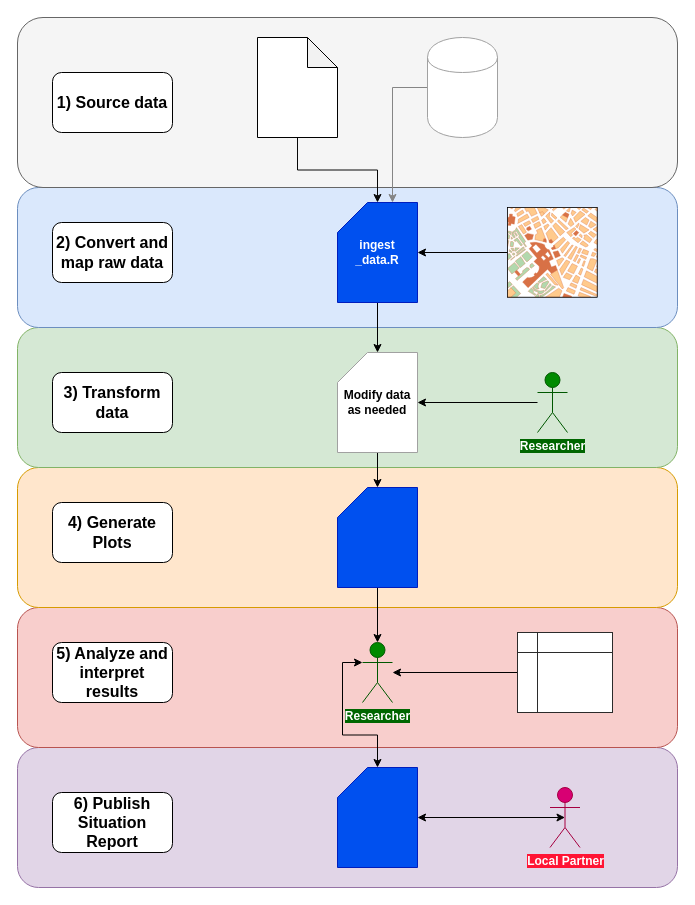
The diagram is 695 pixels wide and 905 high, and some of its shapes have lost their labels. Each missing label, with the centre of its shape:
COVID-19 MDN Data Store: the point at 462,87
modified _report _template .RMD: the point at 377,817
Other Data Sources: the point at 564,672
Raw Data Sources: the point at 297,87
Spatial Data: the point at 552,252
standard _plots.R: the point at 377,537
